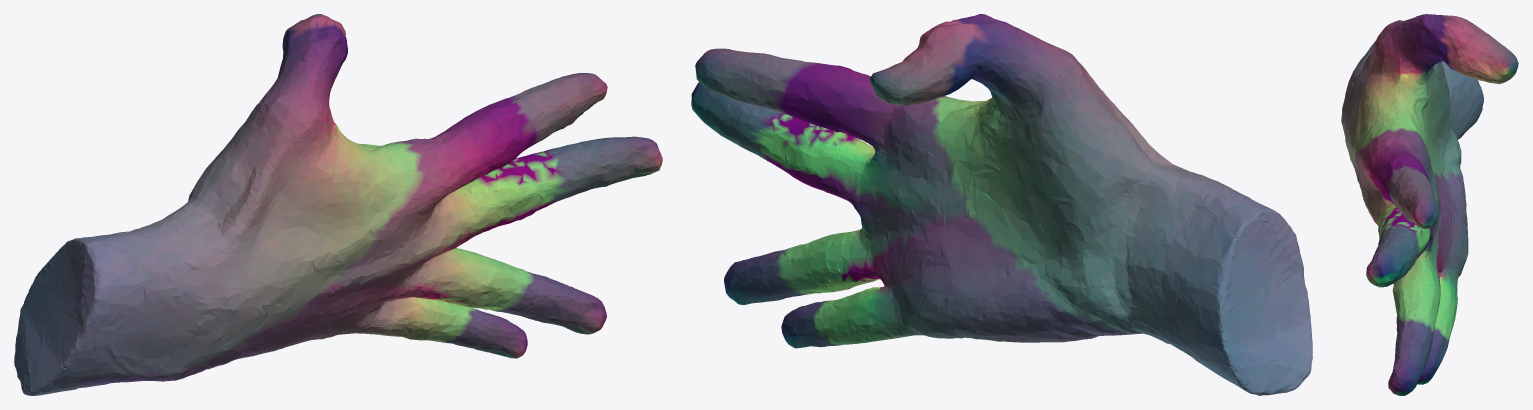
The model's file is hand-2.off.obj.
The picture shows the model from 3 angles, left to right: view 1: azimuth 30°, elevation 25°; view 2: azimuth 150°, elevation 25°; view 3: azimuth 270°, elevation 25°; orthographic projection. The views are drawn at different scales.
Size of the model in its own units: 1.77 by 1.02 by 0.5492.
